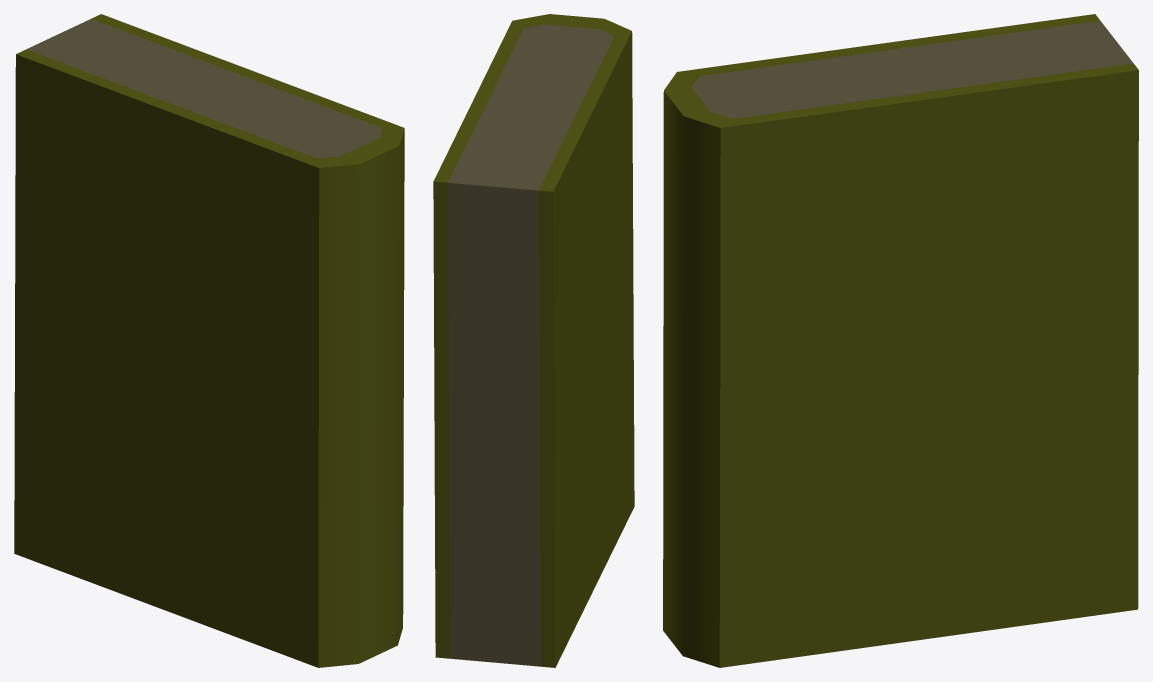
File: extra_single_book.glb
The picture shows the model from 3 angles, left to right: view 1: azimuth 30°, elevation 25°; view 2: azimuth 150°, elevation 25°; view 3: azimuth 270°, elevation 25°; orthographic projection. The views are drawn at different scales.
Parts seen in each view (by area): view 1: Book_Simplified_Single; view 2: Book_Simplified_Single; view 3: Book_Simplified_Single.
Boxes of the visible parts, box(x1,y1,x2,y2) form: Book_Simplified_Single: box(14, 14, 404, 667); Book_Simplified_Single: box(433, 14, 634, 667); Book_Simplified_Single: box(663, 14, 1138, 667).
Size of the model in its own units: 0.196 by 0.4293 by 0.3421.
